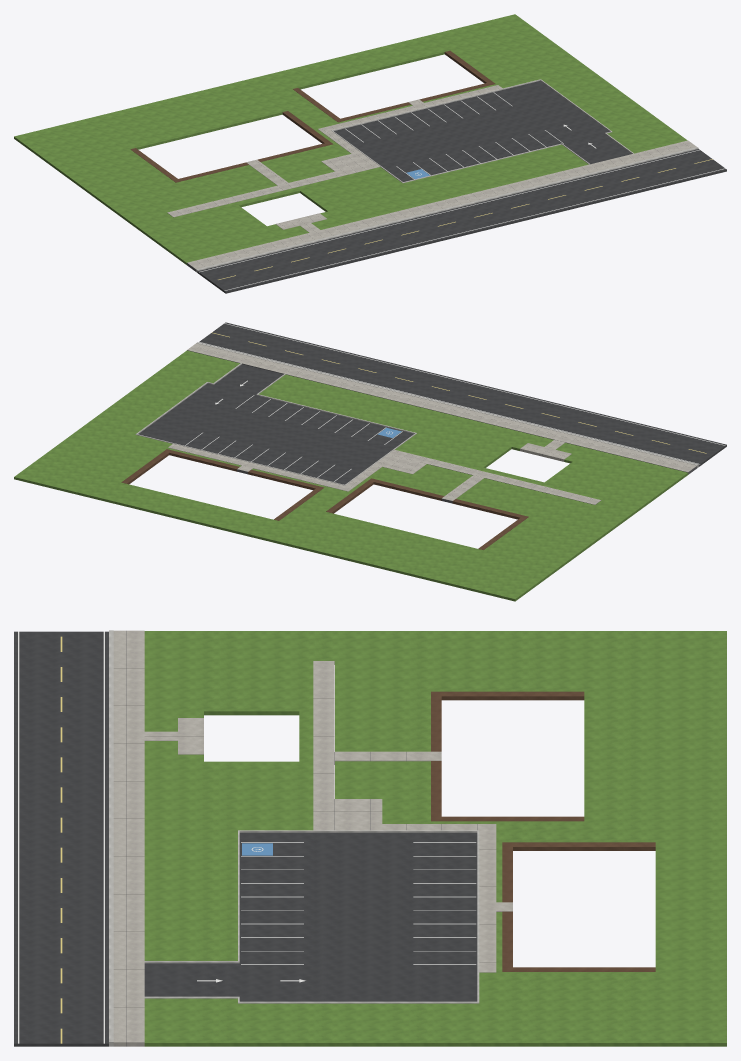
Rendered from site.glb.
3 renders of one model, top to bottom at view 1: azimuth 30°, elevation 25°; view 2: azimuth 150°, elevation 25°; view 3: azimuth 270°, elevation 25°, orthographic. The views are drawn at different scales.
Visible parts, largest first — view 1: site_grass, site_asphalt, site_concrete, site_curb, site_mulch, site_line_w; view 2: site_grass, site_asphalt, site_concrete, site_mulch, site_curb, site_line_w, site_dark; view 3: site_grass, site_asphalt, site_concrete, site_mulch, site_curb, site_line_w.
Part boxes in pixels (x1,y1,x2,y2): site_grass: [14, 14, 687, 264]; site_asphalt: [197, 81, 726, 293]; site_concrete: [167, 85, 696, 268]; site_curb: [196, 79, 698, 272]; site_mulch: [130, 50, 495, 182]; site_line_w: [199, 92, 725, 290]; site_grass: [14, 350, 688, 601]; site_asphalt: [138, 322, 726, 484]; site_concrete: [168, 343, 696, 504]; site_mulch: [121, 449, 528, 549]; site_curb: [135, 342, 698, 485]; site_line_w: [185, 323, 725, 481]; site_dark: [187, 350, 697, 504]; site_grass: [144, 631, 726, 1046]; site_asphalt: [14, 631, 477, 1046]; site_concrete: [113, 630, 512, 1046]; site_mulch: [431, 691, 655, 971]; site_curb: [109, 630, 479, 1046]; site_line_w: [18, 631, 476, 1043].
Size of the model in its own units: 82 by 0.45 by 60.
Materials: 9 (5 with a texture image).
